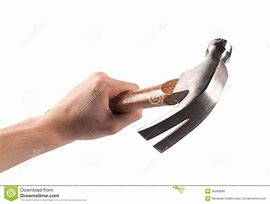hammer: (66, 36, 234, 155)
